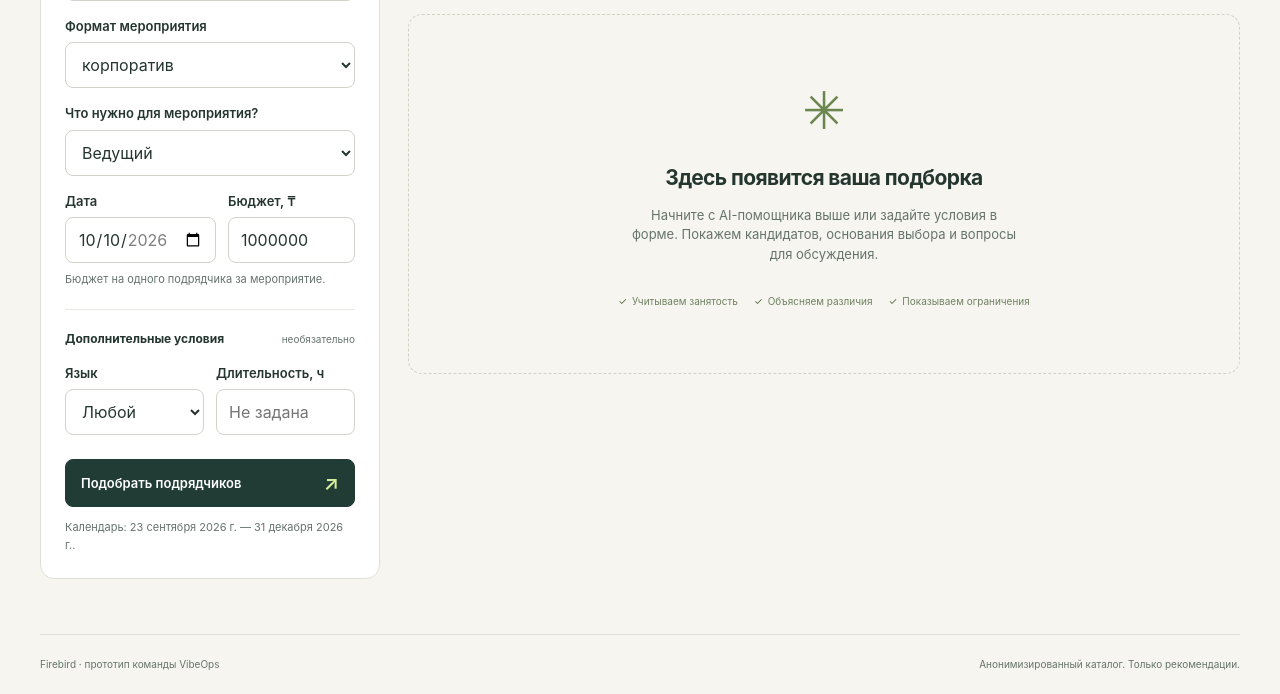
Test: Firebird UI contract › distinguishes no_matches from network failures
(page scrolled)
Click the button "Подобрать подрядчиков ↗": (210, 483) [65,459,355,507]
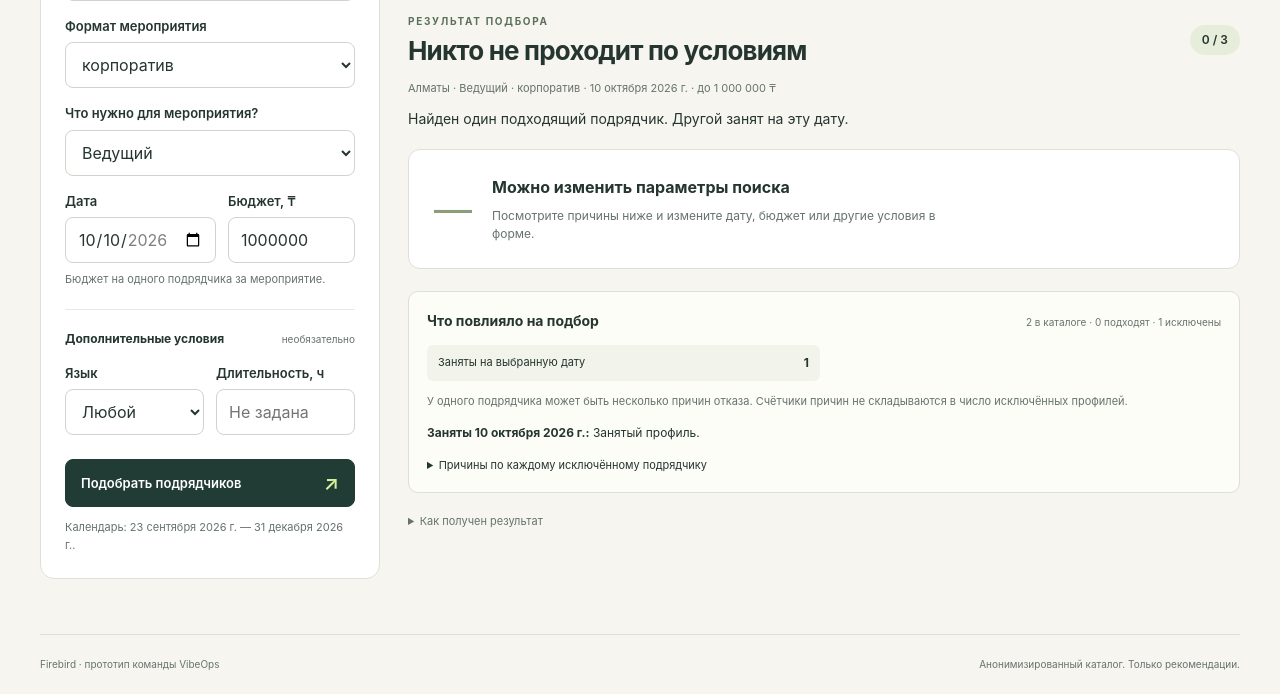
Expected: the heading "Никто не проходит по условиям" is shown, [408,35,807,66]
